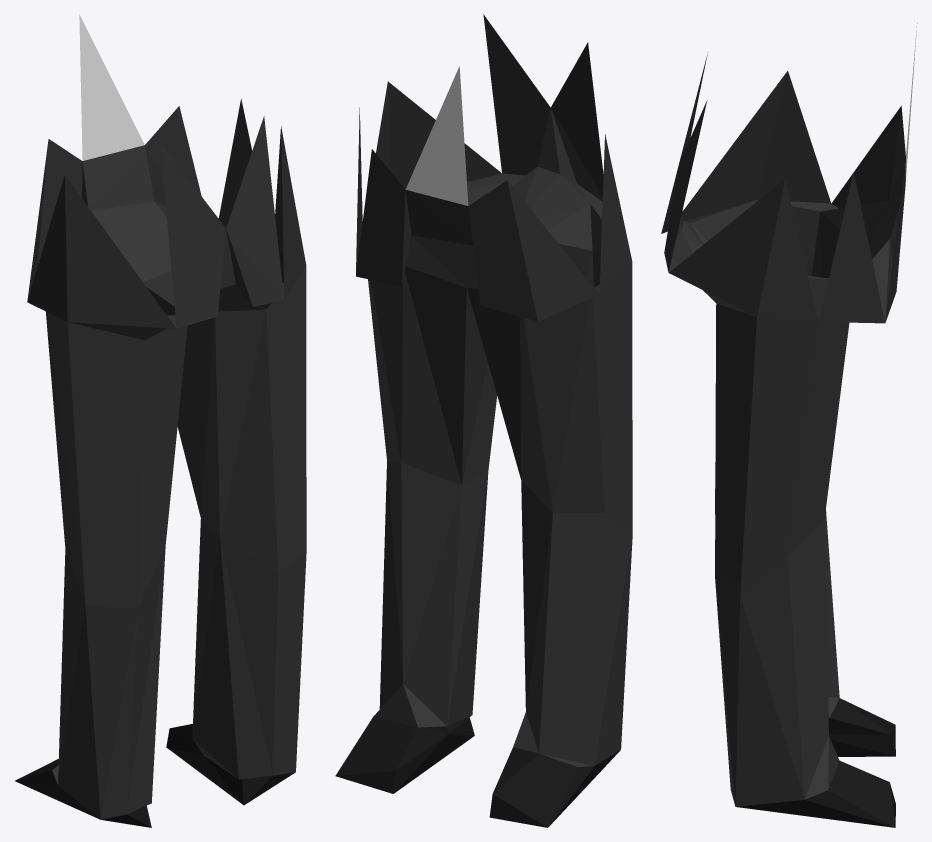
Rendered from Legs.obj.
3 renders of one model, left to right at view 1: azimuth 30°, elevation 25°; view 2: azimuth 150°, elevation 25°; view 3: azimuth 270°, elevation 25°, orthographic.
Bounding box in the file's own units: 0.3902 × 1.15 × 0.3545.
Materials: 1 (1 with a texture image).
